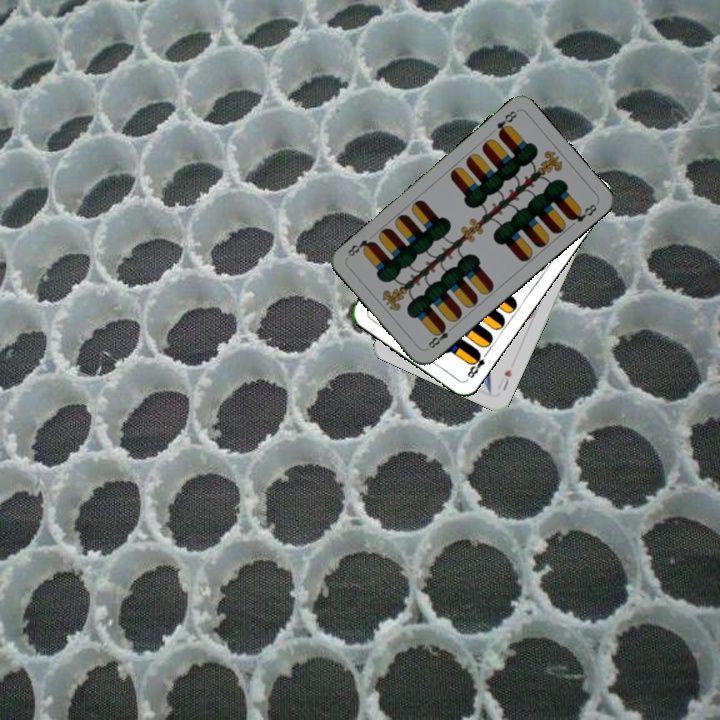E8: (422, 321, 457, 352), (463, 347, 491, 381), (492, 106, 520, 139)
HU: (493, 365, 514, 394)
